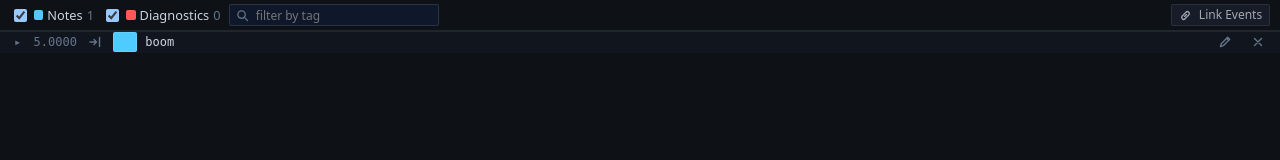
Test case: event row focus and editing › still takes a double-click on the label as a rename
This screenshot has width=1280, height=160.
Double-click the text "boom": (160, 42) [145,31,174,53]
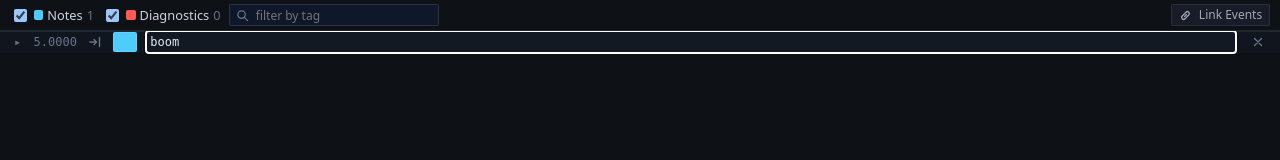
Expected: the field named "event label" holds "boom", [145,31,1237,54]
